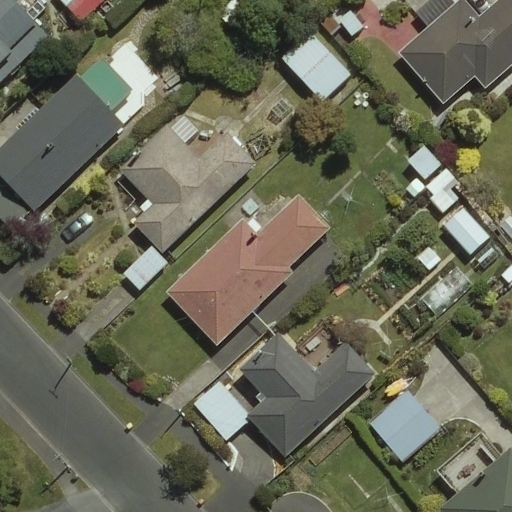DT: (52, 448, 81, 486)
